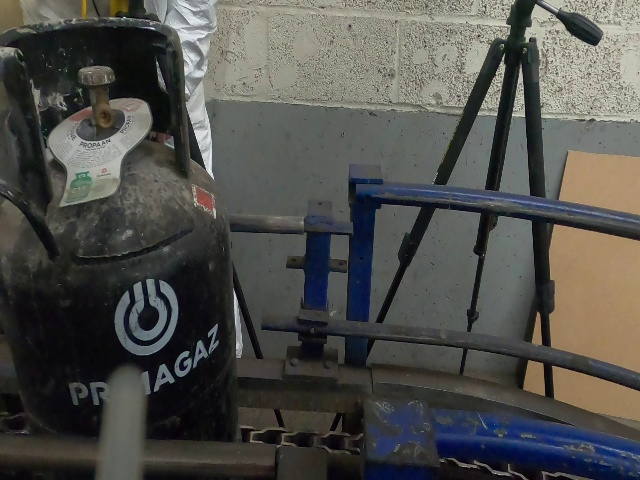gas_bottle: (0, 6, 638, 474)
